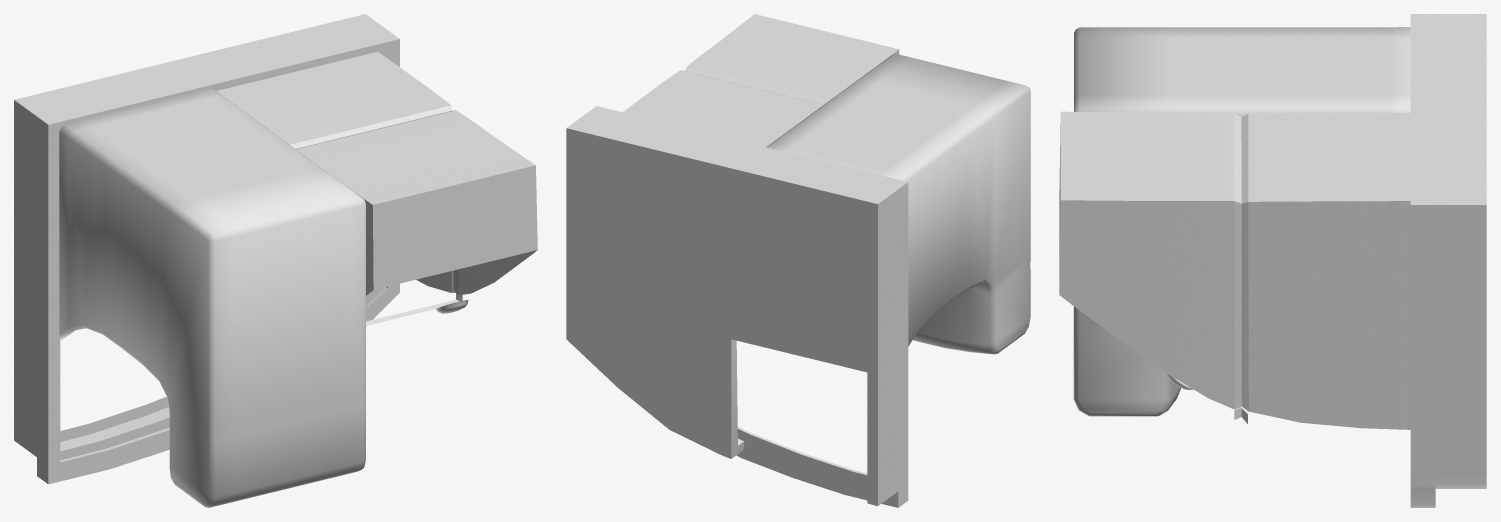
File: CoffeeMachine_22_CoffeeMachine_22_0_GeomSubset_0.obj
3 views of the same model, side by side, from view 1: azimuth 30°, elevation 25°; view 2: azimuth 150°, elevation 25°; view 3: azimuth 270°, elevation 25° (orthographic). The views are drawn at different scales.
Visible parts, largest first — view 1: CoffeeMachine_22_CoffeeMachine_22_0_GeomSubset_0; view 2: CoffeeMachine_22_CoffeeMachine_22_0_GeomSubset_0; view 3: CoffeeMachine_22_CoffeeMachine_22_0_GeomSubset_0.
Boxes of the visible parts, box(x1,y1,x2,y2) form: CoffeeMachine_22_CoffeeMachine_22_0_GeomSubset_0: box(14, 14, 537, 507); CoffeeMachine_22_CoffeeMachine_22_0_GeomSubset_0: box(566, 14, 1030, 507); CoffeeMachine_22_CoffeeMachine_22_0_GeomSubset_0: box(1059, 14, 1486, 507).
Bounding box in the file's own units: 0.4351 × 0.4253 × 0.4116.
